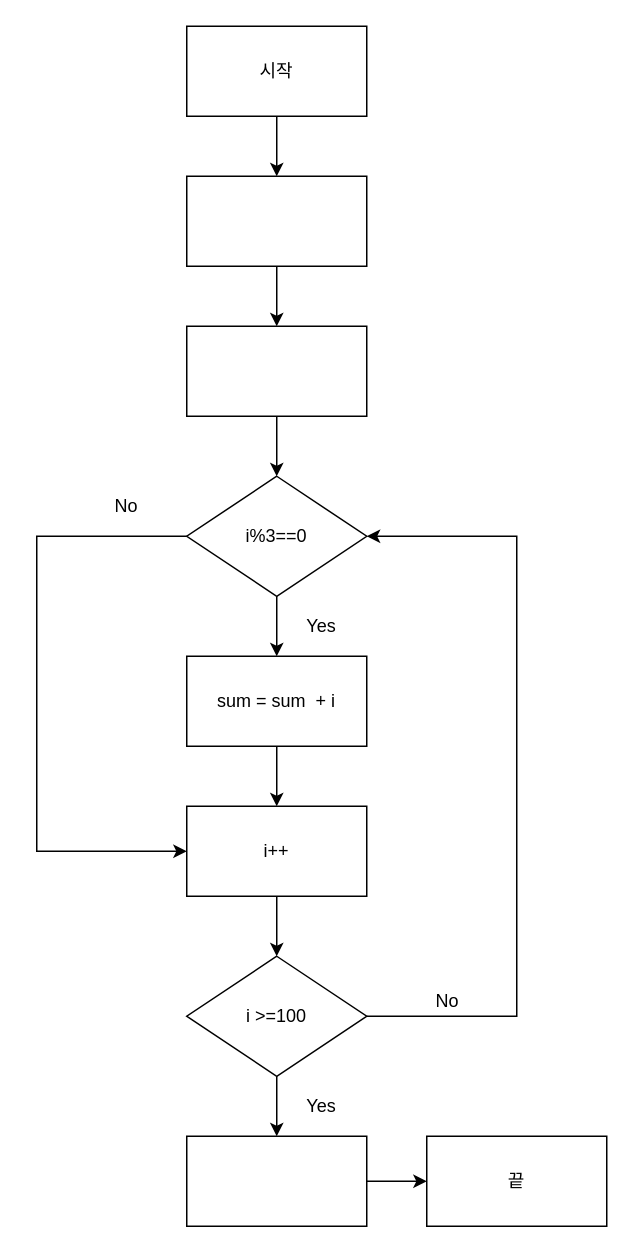
Image size: 633x1253. Some labels were removed from this diagram. The box of each missing label's shape, as (x1, y1, x2, y2) in pixels:
i = 3: (185, 325, 367, 416)
sum = 0: (185, 175, 367, 266)
합 출력: (185, 1135, 367, 1226)
